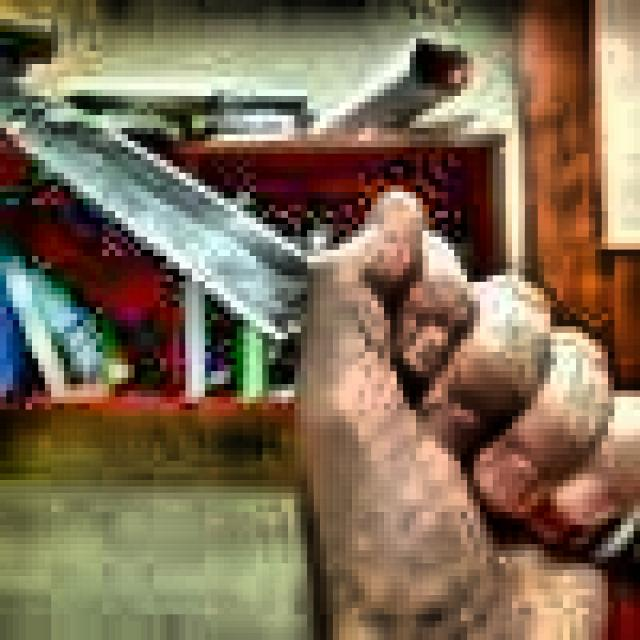knife: (2, 82, 634, 565)
